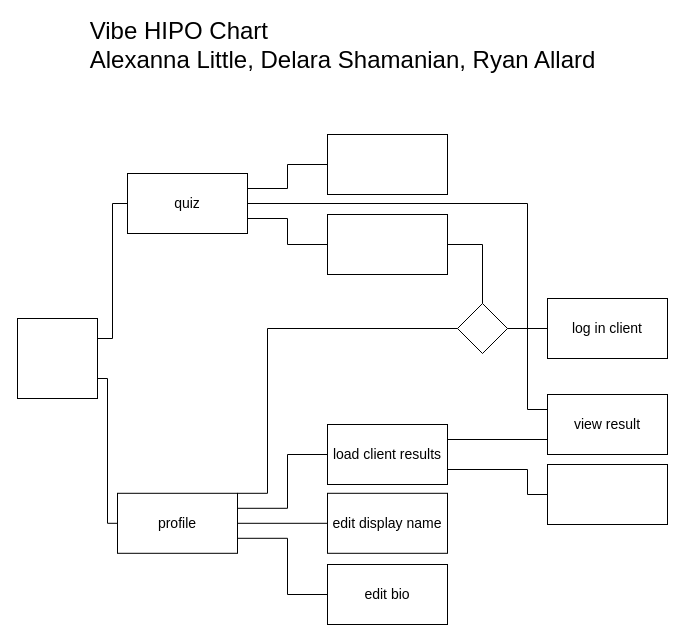
The diagram is 685 pixels wide and 642 high, and some of its shapes have lost their labels. The shapes that lost their labels are listed below. From the top down, each one's centre as x and y in pixels, then its label:
At (387,164): "complete result".
At (387,244): "save result".
At (57,358): "main page".
At (607,494): "remove result".
